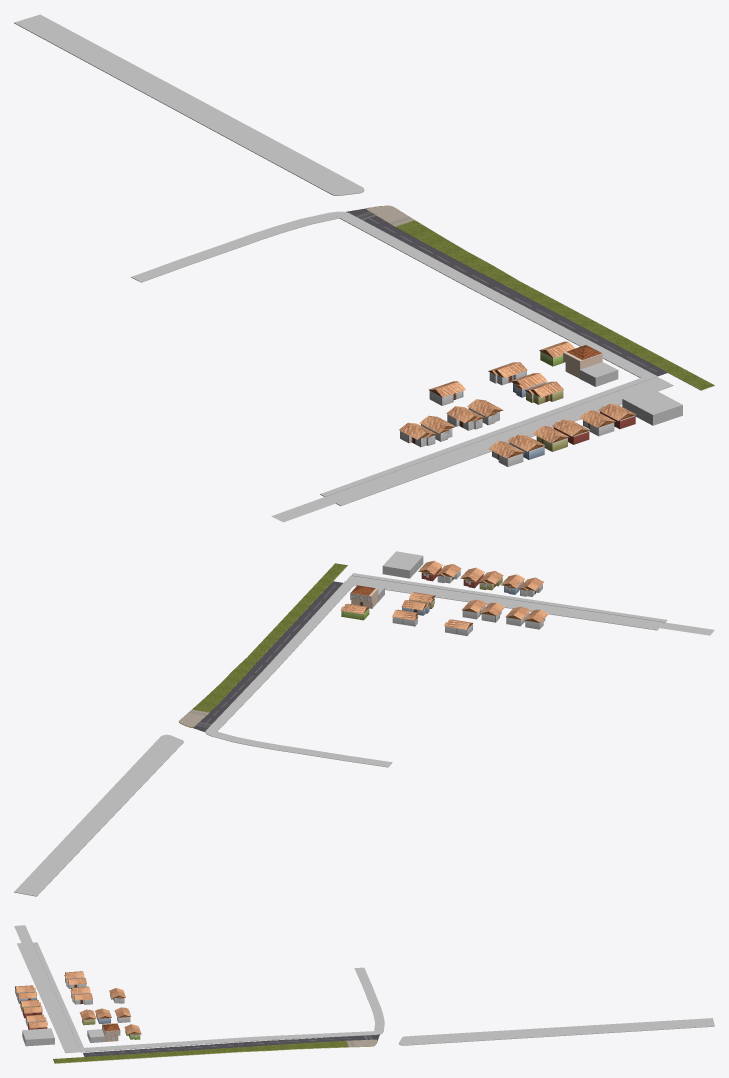
File: mapa.fbx
3 views of the same model, one above another, from view 1: azimuth 30°, elevation 25°; view 2: azimuth 150°, elevation 25°; view 3: azimuth 270°, elevation 25° (orthographic). The views are drawn at different scales.
Visible parts, largest first — view 1: pCube19, pCube18, pPlane3, pCube16, pPlane4, pCube17, pasted__pCube15, pCube14, pCube15; view 2: pCube19, pCube18, pPlane3, pCube16, pPlane4, pCube17, pCube15, pasted__pCube15, pCube14; view 3: pCube19, pCube18, pPlane4, pPlane3, pCube16, pCube17, pCube15, pasted__pCube15, pCube14.
Boxes of the visible parts, left/top/right/bottom form: pCube19: left=14, top=14, right=364, bottom=195; pCube18: left=366, top=205, right=714, bottom=390; pPlane3: left=271, top=377, right=668, bottom=522; pCube16: left=330, top=211, right=652, bottom=377; pPlane4: left=346, top=208, right=667, bottom=376; pCube17: left=131, top=212, right=339, bottom=282; pasted__pCube15: left=320, top=374, right=656, bottom=496; pCube14: left=622, top=388, right=682, bottom=425; pCube15: left=335, top=383, right=673, bottom=505; pCube19: left=14, top=734, right=183, bottom=896; pCube18: left=178, top=563, right=347, bottom=727; pPlane3: left=346, top=575, right=714, bottom=635; pCube16: left=205, top=583, right=354, bottom=736; pPlane4: left=192, top=581, right=342, bottom=731; pCube17: left=212, top=731, right=392, bottom=767; pCube15: left=351, top=573, right=667, bottom=622; pasted__pCube15: left=344, top=581, right=658, bottom=630; pCube14: left=382, top=551, right=423, bottom=578; pCube19: left=398, top=1018, right=714, bottom=1045; pCube18: left=53, top=1039, right=377, bottom=1063; pPlane4: left=83, top=1034, right=379, bottom=1056; pPlane3: left=14, top=925, right=80, bottom=1052; pCube16: left=84, top=1030, right=383, bottom=1051; pCube17: left=354, top=967, right=384, bottom=1030; pCube15: left=17, top=943, right=69, bottom=1053; pasted__pCube15: left=33, top=942, right=85, bottom=1052; pCube14: left=22, top=1028, right=54, bottom=1046.
Size of what is drawn, in the model's own units: 6.96 by 0.3462 by 14.98.
